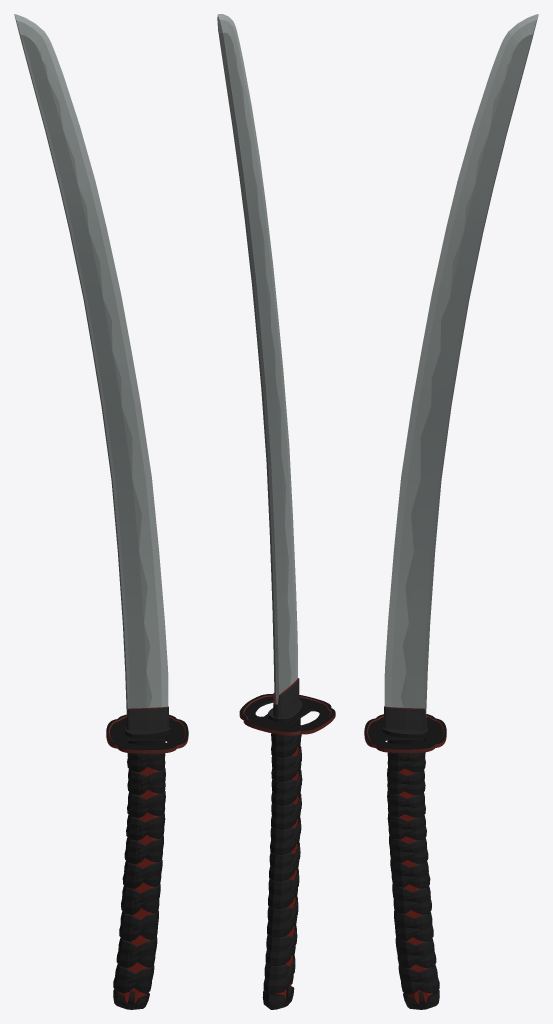
Rendered from bladedHeavyBlackKatana.glb.
3 renders of one model, left to right at view 1: azimuth 90°, elevation 25°; view 2: azimuth 150°, elevation 25°; view 3: azimuth 270°, elevation 25°, orthographic. The views are drawn at different scales.
Visible parts, largest first — view 1: bladedHeavyBlackKatana; view 2: bladedHeavyBlackKatana; view 3: bladedHeavyBlackKatana.
Boxes of the visible parts, x1,y1,x2,y2 form: bladedHeavyBlackKatana: [14, 14, 188, 1009]; bladedHeavyBlackKatana: [217, 14, 335, 1009]; bladedHeavyBlackKatana: [364, 14, 538, 1009].
Bounding box in the file's own units: 0.1127 × 1.41 × 0.2231.
